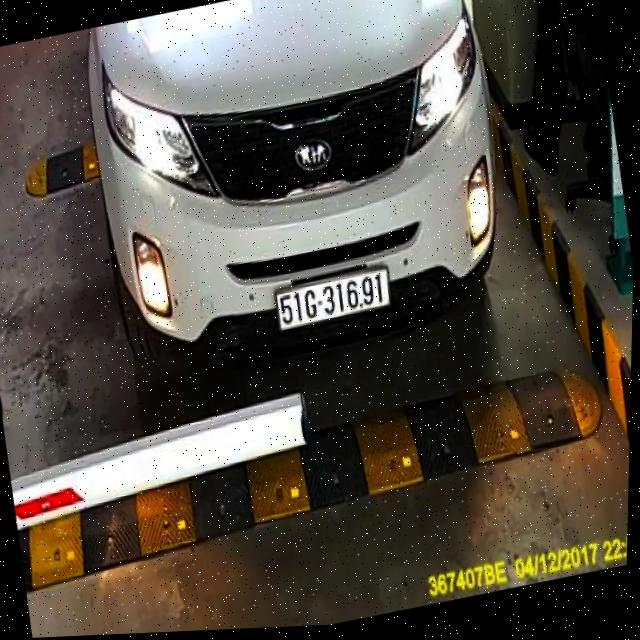car: (62, 0, 534, 404)
plate: (270, 262, 397, 333)
